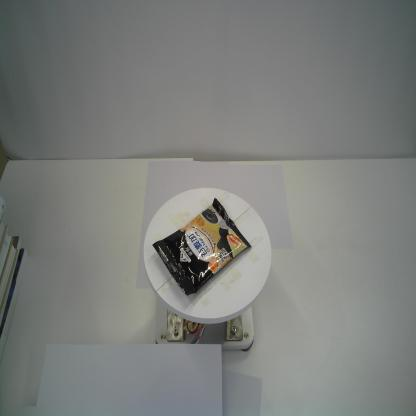Instant Drink: (152, 197, 252, 297)
